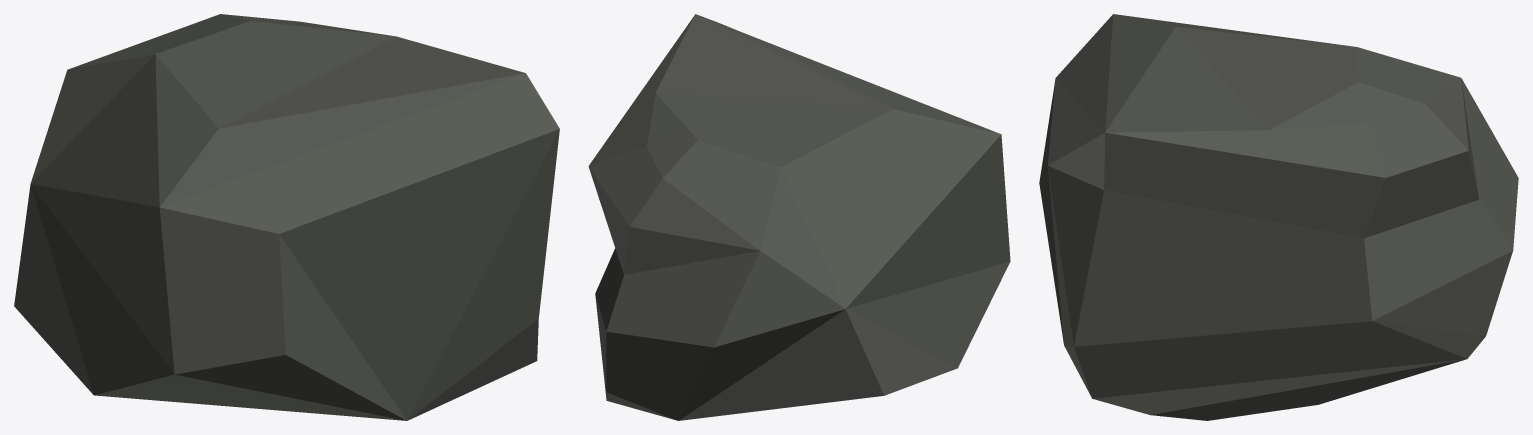
File: S_Rock_02.fbx
3 renders of one model, left to right at view 1: azimuth 30°, elevation 25°; view 2: azimuth 150°, elevation 25°; view 3: azimuth 270°, elevation 25°, orthographic. The views are drawn at different scales.
Parts seen in each view (by area): view 1: S_Rock_02; view 2: S_Rock_02; view 3: S_Rock_02.
Part boxes in pixels (box(x1,y1,x2,y2)): S_Rock_02: box(14, 14, 559, 420); S_Rock_02: box(588, 14, 1010, 420); S_Rock_02: box(1039, 14, 1518, 420).
Bounding box in the file's own units: 35.44 × 29.44 × 40.46.
1 material, 1 textured.
